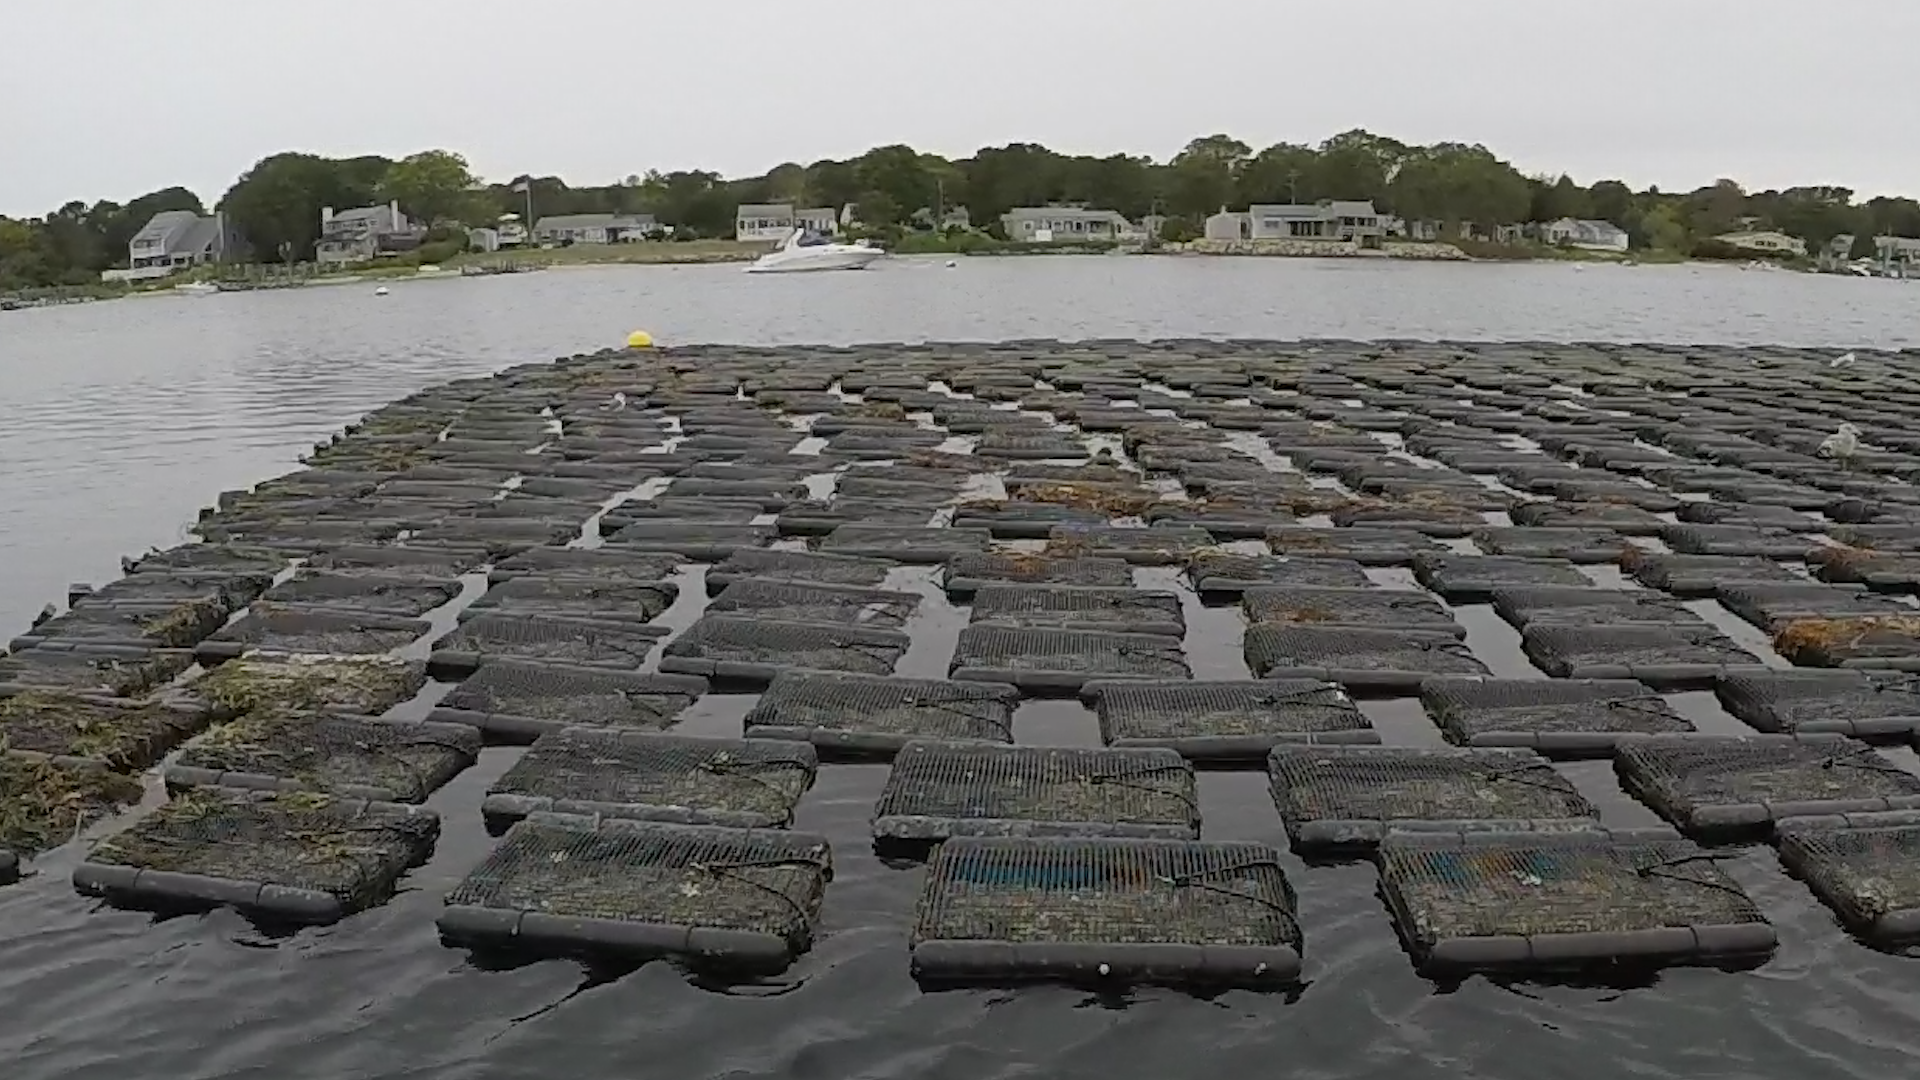bag: (447, 811, 836, 996), (909, 832, 1304, 1004), (74, 789, 440, 927)
